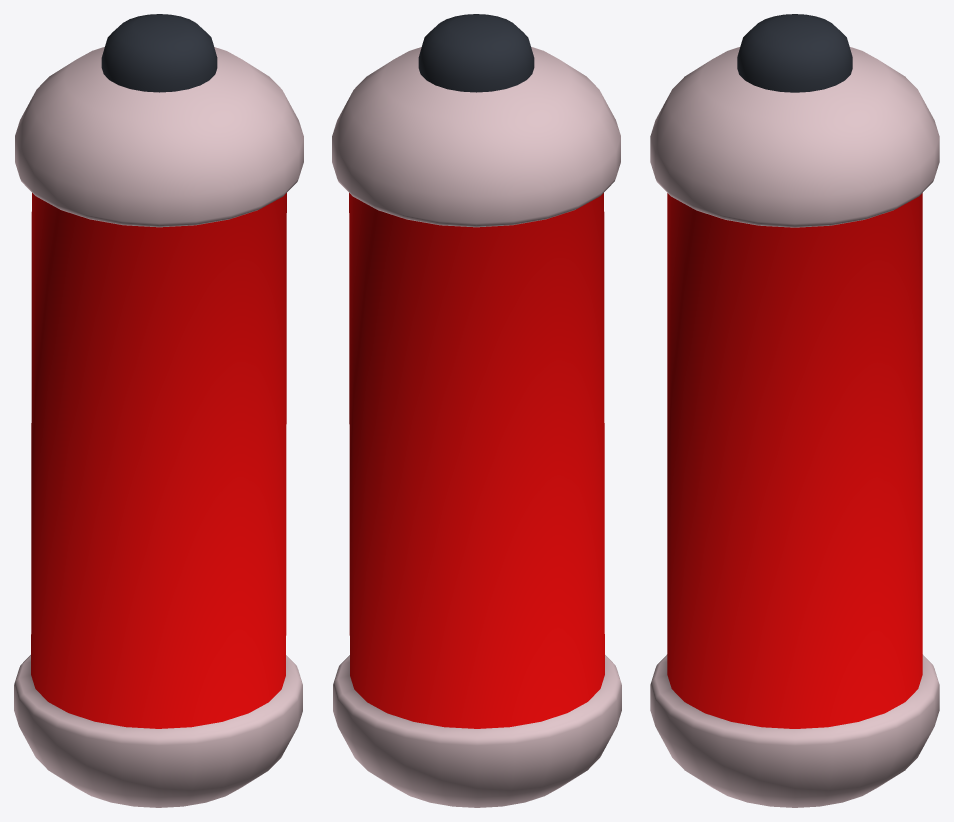
File: sm_pickup_fuel.fbx
The picture shows the model from 3 angles, left to right: view 1: azimuth 30°, elevation 25°; view 2: azimuth 150°, elevation 25°; view 3: azimuth 270°, elevation 25°; orthographic projection.
Visible parts, largest first — view 1: Fuel_Pickup; view 2: Fuel_Pickup; view 3: Fuel_Pickup.
Part boxes in pixels (bbox=[...]): Fuel_Pickup: bbox=[14, 14, 303, 807]; Fuel_Pickup: bbox=[332, 14, 621, 807]; Fuel_Pickup: bbox=[650, 14, 939, 807].
Size of the model in its own units: 141 by 404 by 140.
